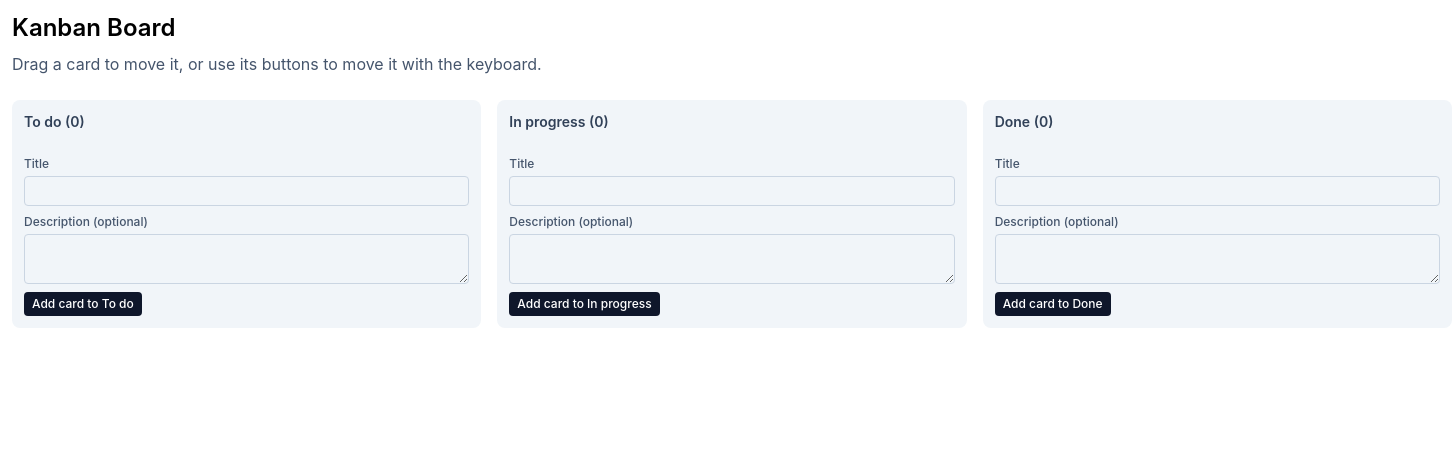
Test: adds a card with a title, and rejects an empty title
Click the button "Add card to To do" at (83, 304), box [24,292,142,316]
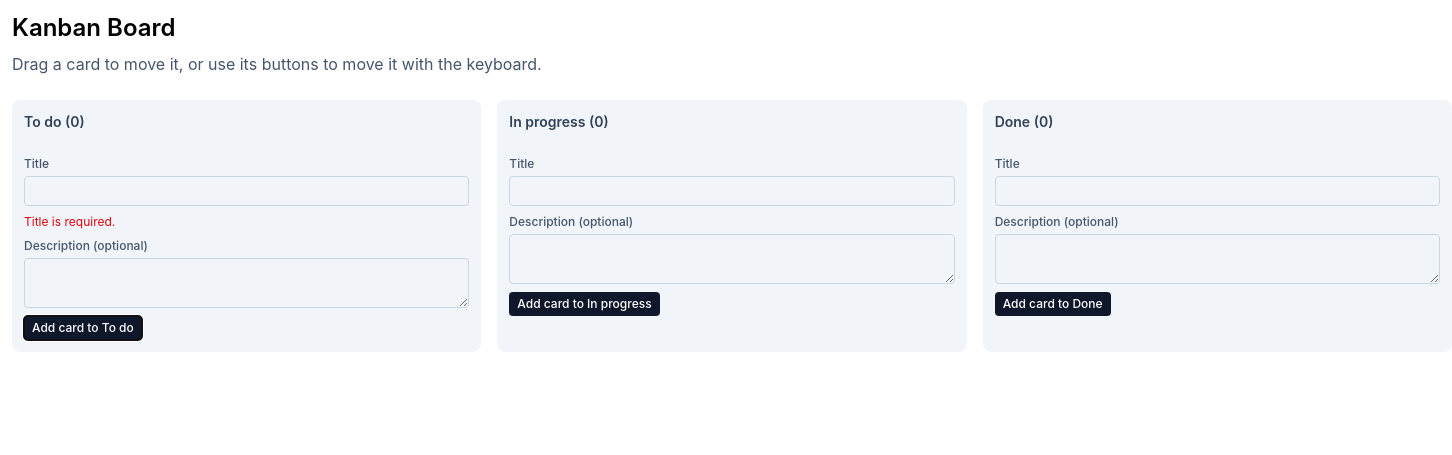
expect the message reads "Title is required.": met, box [24,214,115,229]
Type "Write tests" into the 1st field labelled "Title" at (247, 191), box [24,176,469,206]
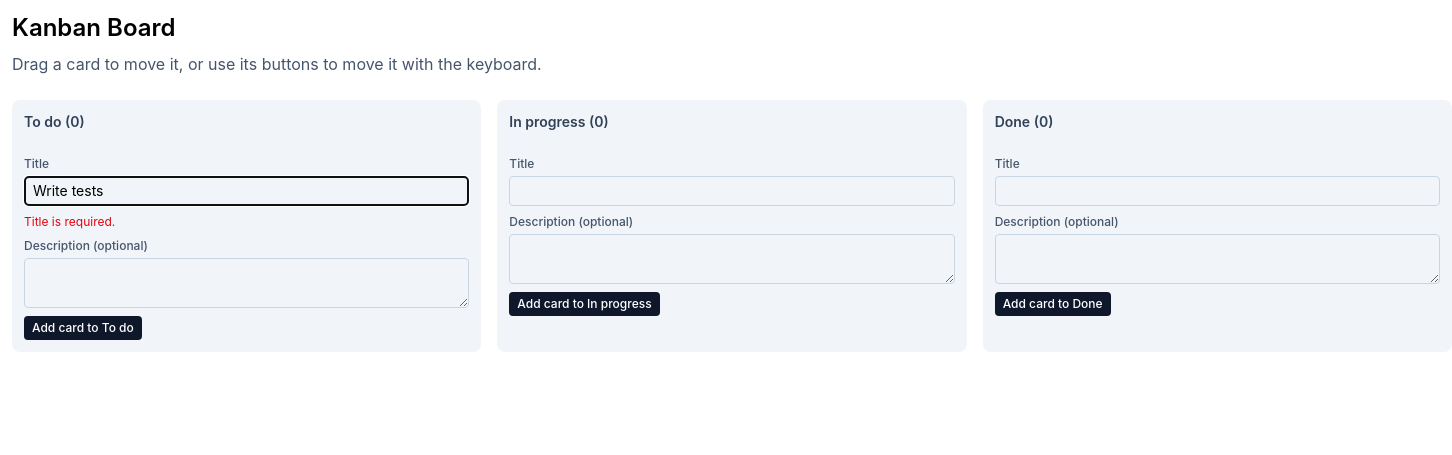
Click the button "Add card to To do" at (83, 328), box [24,316,142,340]
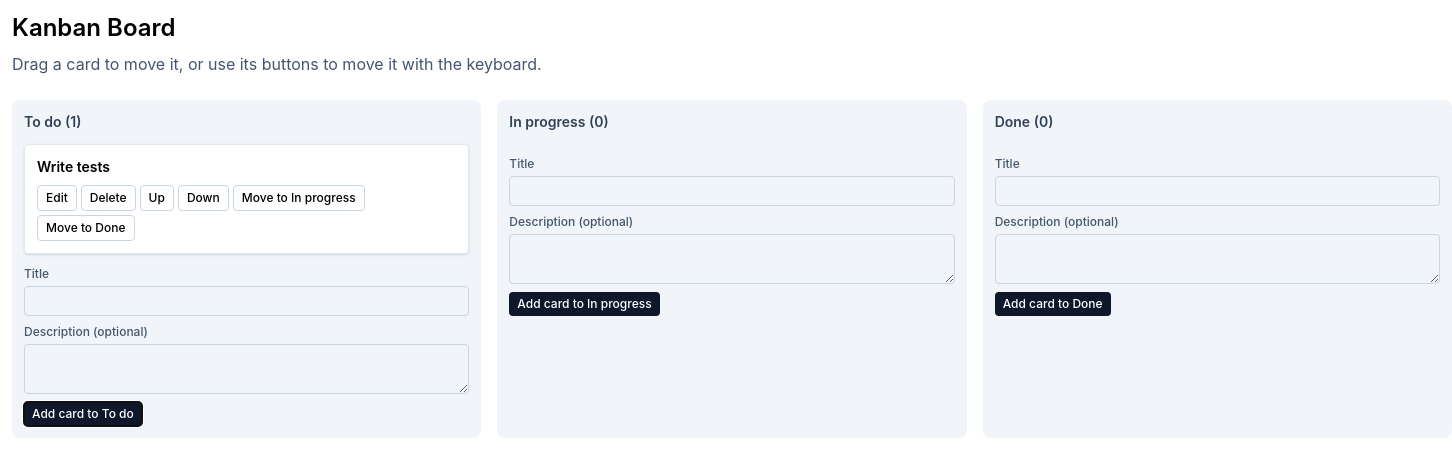
expect the heading "Write tests" is shown: met, box [37,158,110,175]
expect the heading "To do (1)" is shown: met, box [24,113,81,130]
